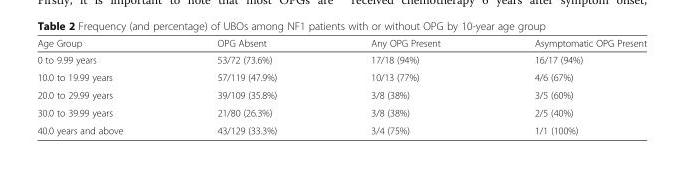table: (36, 37, 646, 135)
table column: (323, 37, 486, 135), (486, 37, 646, 135), (169, 37, 323, 135), (36, 37, 169, 135)
table column header: (36, 37, 646, 50)
table row: (36, 50, 646, 68), (36, 85, 646, 103), (36, 103, 646, 121), (36, 68, 646, 85), (36, 121, 646, 135), (36, 37, 646, 50)
